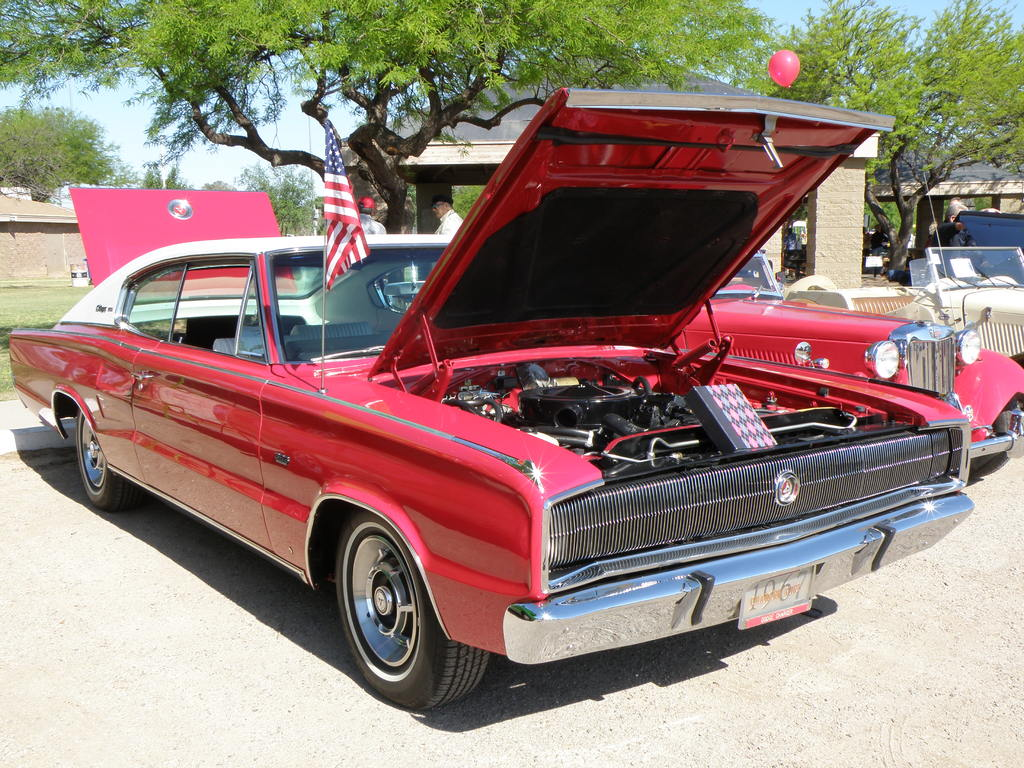person: (428, 193, 463, 237)
